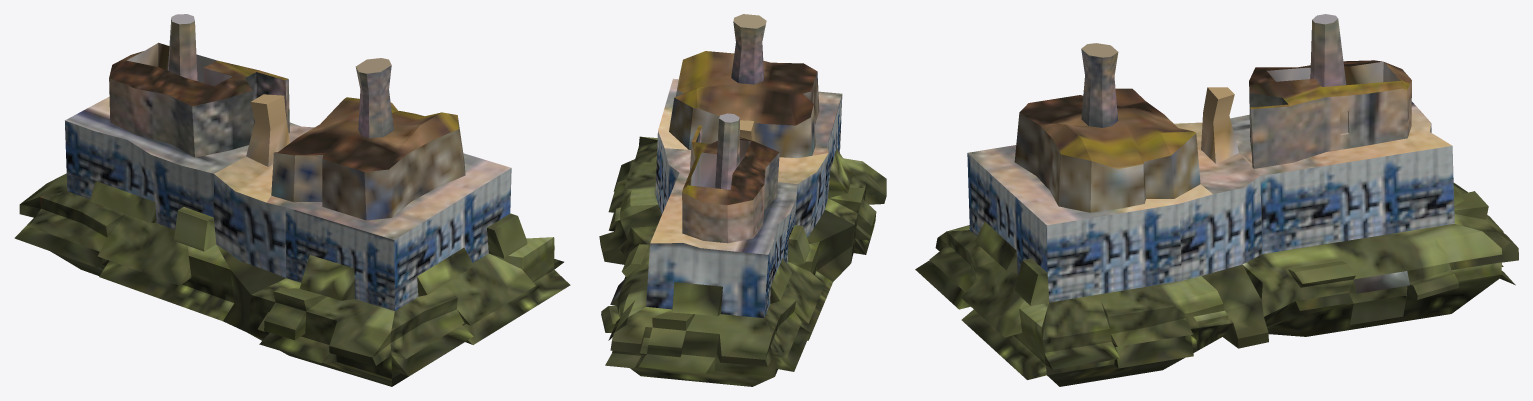
File: Barracks8.fbx
3 renders of one model, left to right at view 1: azimuth 30°, elevation 25°; view 2: azimuth 150°, elevation 25°; view 3: azimuth 270°, elevation 25°, orthographic. The views are drawn at different scales.
Parts seen in each view (by area): view 1: Cube_010.008; view 2: Cube_010.008; view 3: Cube_010.008.
Part boxes in pixels (box(x1,y1,x2,y2)): Cube_010.008: box(14, 14, 570, 386); Cube_010.008: box(599, 14, 886, 386); Cube_010.008: box(915, 14, 1518, 386).
Size of the model in its own units: 57 by 40.23 by 75.76.
